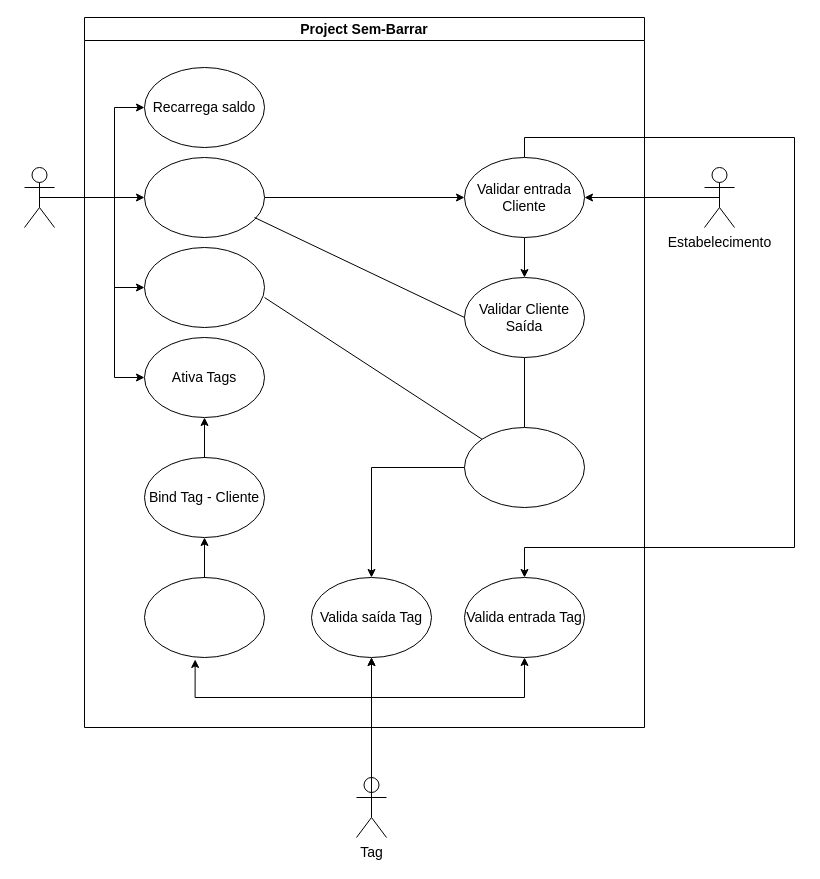
This 820x879 diagram has some shape labels left out. The centre of each missing label's shape, as x and y in pixels:
"Acessa Estabelecimento" goes at (204,197).
"Cliente" goes at (39,197).
"Cria tags desabilitadas" goes at (204,617).
"Debita saldo" goes at (204,287).
"Realiza cobrança cliente" goes at (524,467).
